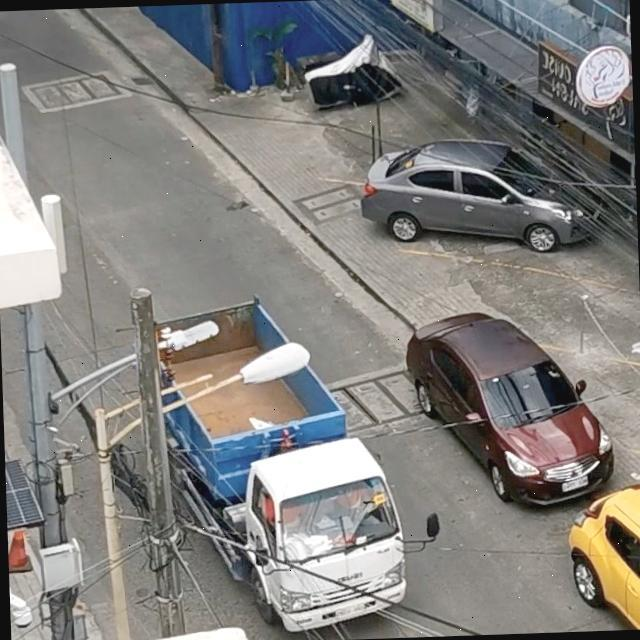Truck: (114, 261, 417, 640)
